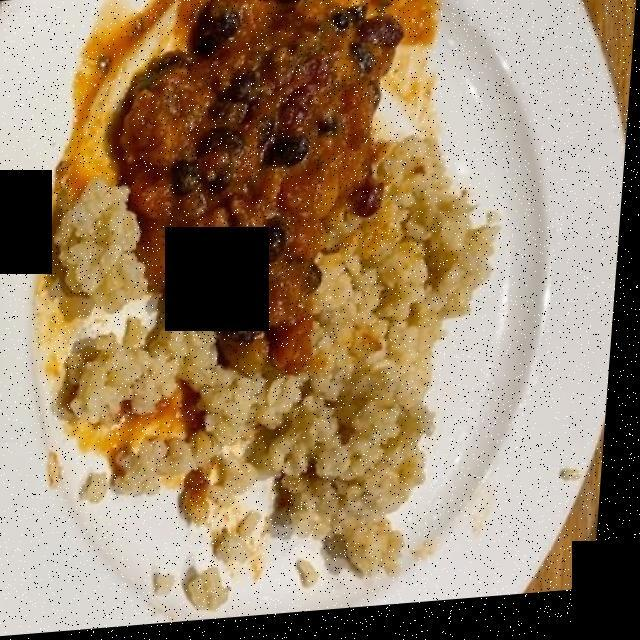chili-con-carne: (113, 0, 408, 376)
rice: (49, 150, 512, 586)
